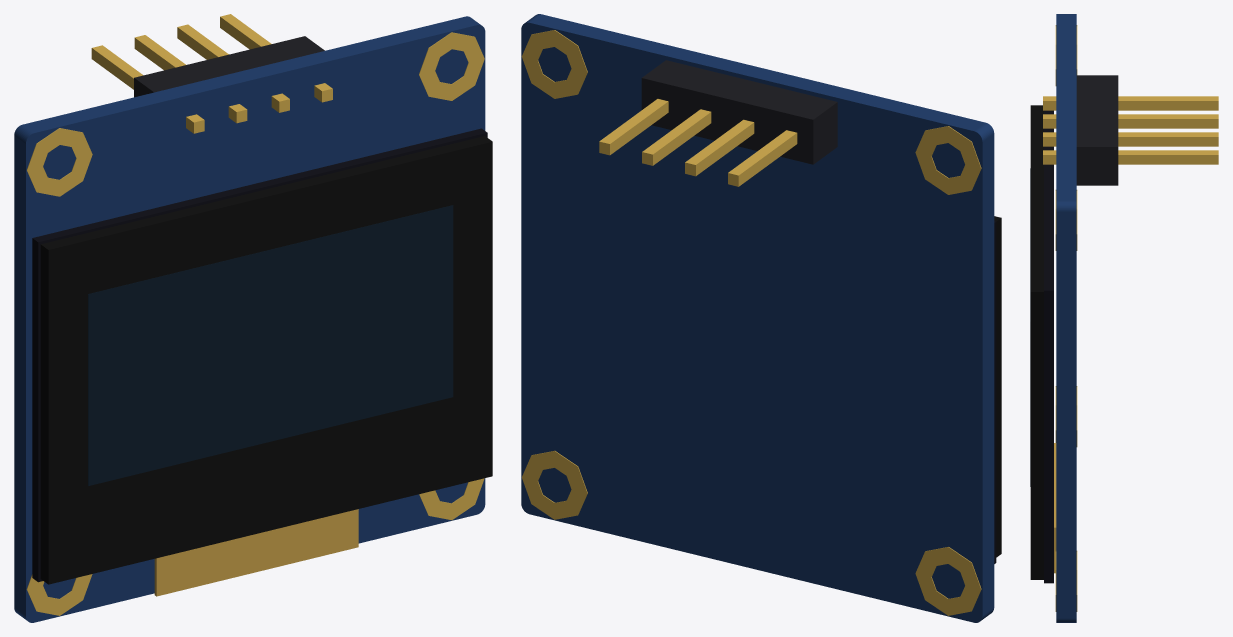
The picture shows the model from 3 angles, left to right: view 1: azimuth 30°, elevation 25°; view 2: azimuth 150°, elevation 25°; view 3: azimuth 270°, elevation 25°; orthographic projection. The views are drawn at different scales.
Visible parts, largest first — view 1: g3-glass, g4-glass, g1-pcb, g0-gold, g5-plastic, g2-plastic, g6-plastic; view 2: g1-pcb, g0-gold, g6-plastic, g3-glass, g2-plastic; view 3: g1-pcb, g0-gold, g3-glass, g6-plastic, g2-plastic, g5-plastic, g4-glass.
Part boxes in pixels (x1,y1,x2,y2): g3-glass: [40, 136, 492, 584]; g4-glass: [88, 205, 453, 486]; g1-pcb: [14, 16, 485, 622]; g0-gold: [26, 14, 484, 615]; g5-plastic: [154, 509, 358, 596]; g2-plastic: [32, 128, 487, 582]; g6-plastic: [134, 36, 324, 97]; g1-pcb: [521, 14, 994, 622]; g0-gold: [521, 30, 981, 615]; g6-plastic: [641, 60, 837, 164]; g3-glass: [994, 216, 1001, 557]; g2-plastic: [994, 221, 996, 563]; g1-pcb: [1056, 14, 1076, 622]; g0-gold: [1043, 25, 1218, 611]; g3-glass: [1030, 105, 1043, 579]; g6-plastic: [1076, 75, 1118, 185]; g2-plastic: [1044, 110, 1053, 583]; g5-plastic: [1054, 443, 1056, 573]; g4-glass: [1030, 168, 1030, 486].
Bounding box in the file's own units: 27.3 × 27.9 × 11.27.
